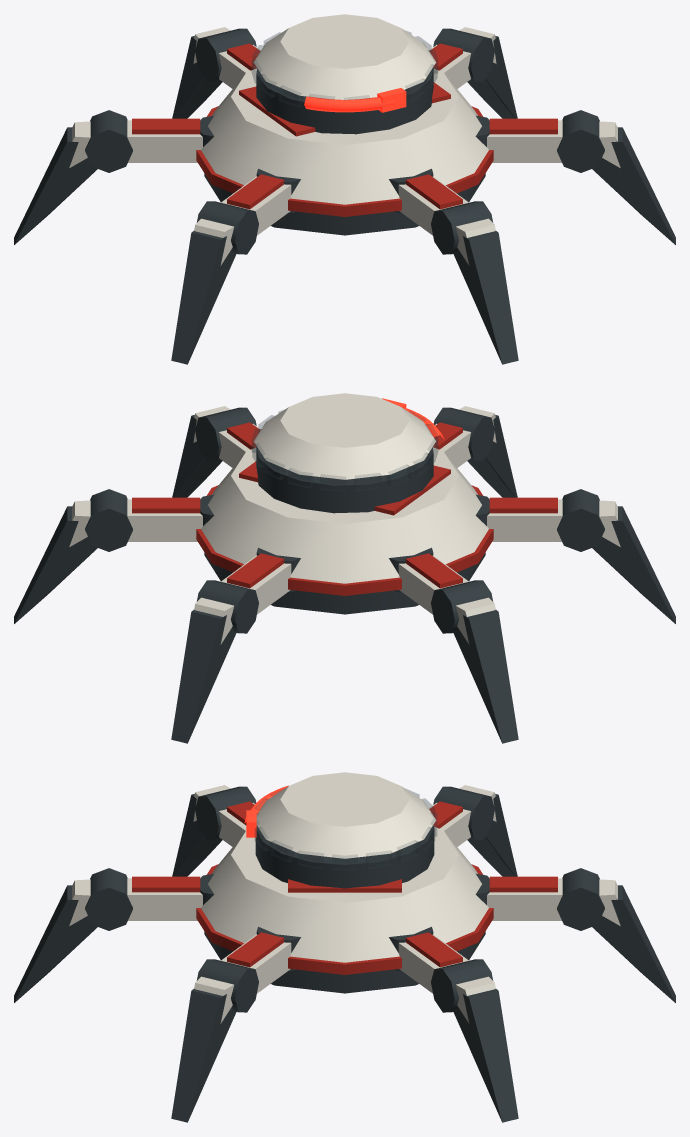
3 views of the same model, one above another, from view 1: azimuth 30°, elevation 25°; view 2: azimuth 150°, elevation 25°; view 3: azimuth 270°, elevation 25° (orthographic).
Visible parts, largest first — view 1: mine-chassis-fleet-armor, mine-chassis-fleet-machine, mine-knee-1-painted, mine-knee-2-painted, mine-knee-0-painted, mine-knee-3-painted, mine-chassis-fleet-red, mine-hip-0-painted, mine-hip-3-painted, mine-knee-4-painted, mine-knee-5-painted, mine-hip-1-painted (+5 smaller); view 2: mine-chassis-fleet-armor, mine-chassis-fleet-machine, mine-knee-3-painted, mine-knee-4-painted, mine-knee-2-painted, mine-knee-5-painted, mine-chassis-fleet-red, mine-hip-2-painted, mine-hip-5-painted, mine-knee-0-painted, mine-knee-1-painted, mine-chassis-fleet-glass (+4 smaller); view 3: mine-chassis-fleet-armor, mine-chassis-fleet-machine, mine-knee-0-painted, mine-knee-5-painted, mine-knee-1-painted, mine-knee-4-painted, mine-chassis-fleet-red, mine-hip-1-painted, mine-hip-4-painted, mine-knee-3-painted, mine-knee-2-painted, mine-chassis-fleet-glass (+5 smaller).
Boxes of the visible parts, x1,y1,x2,y2 form: mine-chassis-fleet-armor: (201, 14, 488, 204); mine-chassis-fleet-machine: (204, 67, 485, 235); mine-knee-1-painted: (431, 201, 518, 364); mine-knee-2-painted: (171, 201, 258, 364); mine-knee-0-painted: (557, 110, 675, 244); mine-knee-3-painted: (14, 110, 132, 244); mine-chassis-fleet-red: (196, 82, 493, 216); mine-hip-0-painted: (475, 115, 562, 162); mine-hip-3-painted: (127, 115, 214, 162); mine-knee-4-painted: (172, 27, 256, 118); mine-knee-5-painted: (433, 27, 517, 118); mine-hip-1-painted: (389, 168, 468, 235); mine-chassis-fleet-armor: (201, 393, 488, 583); mine-chassis-fleet-machine: (204, 446, 485, 614); mine-knee-3-painted: (431, 580, 518, 743); mine-knee-4-painted: (171, 580, 258, 743); mine-knee-2-painted: (557, 489, 675, 623); mine-knee-5-painted: (14, 489, 132, 623); mine-chassis-fleet-red: (196, 461, 493, 595); mine-hip-2-painted: (475, 494, 562, 541); mine-hip-5-painted: (127, 494, 214, 541); mine-knee-0-painted: (172, 406, 256, 497); mine-knee-1-painted: (433, 406, 517, 497); mine-chassis-fleet-glass: (252, 410, 437, 491); mine-chassis-fleet-armor: (201, 772, 488, 962); mine-chassis-fleet-machine: (204, 825, 485, 993); mine-knee-0-painted: (171, 959, 258, 1122); mine-knee-5-painted: (431, 959, 518, 1122); mine-knee-1-painted: (14, 868, 132, 1002); mine-knee-4-painted: (557, 868, 675, 1002); mine-chassis-fleet-red: (196, 864, 493, 974); mine-hip-1-painted: (127, 873, 214, 920); mine-hip-4-painted: (475, 873, 562, 920); mine-knee-3-painted: (433, 785, 517, 876); mine-knee-2-painted: (172, 785, 256, 876); mine-chassis-fleet-glass: (255, 789, 436, 869).
Bounding box in the file's own units: 5.1 × 1.93 × 5.79.
